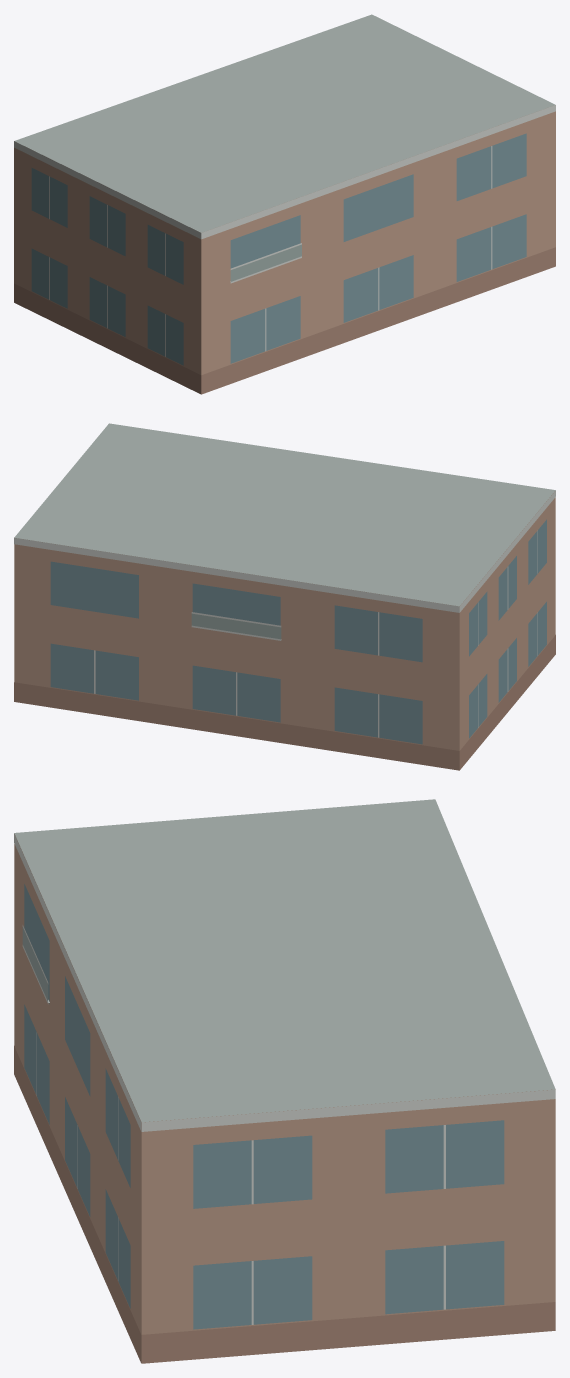
The model's file is survey-upis-33007657.glb.
3 renders of one model, top to bottom at view 1: azimuth 30°, elevation 25°; view 2: azimuth 150°, elevation 25°; view 3: azimuth 270°, elevation 25°, orthographic. The views are drawn at different scales.
Visible parts, largest first — view 1: survey-upis-33007657.tmp; view 2: survey-upis-33007657.tmp; view 3: survey-upis-33007657.tmp.
Part boxes in pixels (x1,y1,x2,y2): survey-upis-33007657.tmp: (14, 14, 555, 394); survey-upis-33007657.tmp: (14, 423, 555, 770); survey-upis-33007657.tmp: (14, 799, 555, 1363).
Size of the model in its own units: 17.53 by 6.1 by 12.42.
